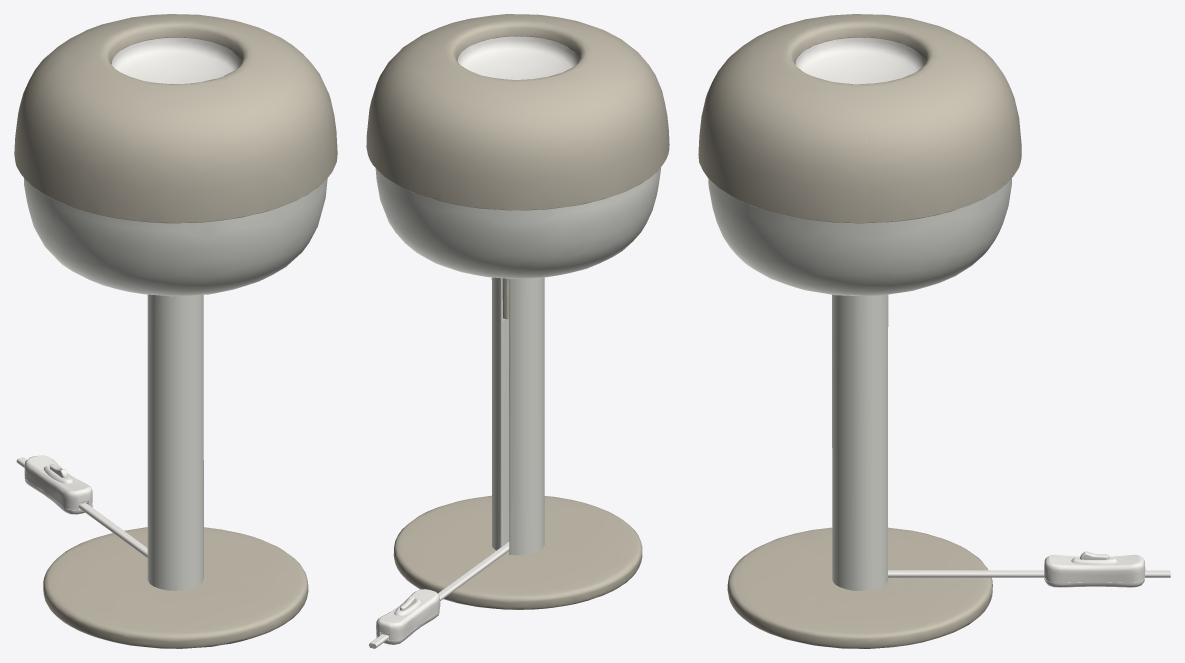
The model's file is blasverk_table_lamp_beige.glb.
3 views of the same model, side by side, from view 1: azimuth 30°, elevation 25°; view 2: azimuth 150°, elevation 25°; view 3: azimuth 270°, elevation 25° (orthographic). The views are drawn at different scales.
Visible parts, largest first — view 1: 70520926-BLÃƒÆ’Ã¢â‚¬Â¦SVERK001; view 2: 70520926-BLÃƒÆ’Ã¢â‚¬Â¦SVERK001; view 3: 70520926-BLÃƒÆ’Ã¢â‚¬Â¦SVERK001.
Boxes of the visible parts, left/top/right/bottom form: 70520926-BLÃƒÆ’Ã¢â‚¬Â¦SVERK001: left=14, top=14, right=337, bottom=648; 70520926-BLÃƒÆ’Ã¢â‚¬Â¦SVERK001: left=366, top=14, right=669, bottom=648; 70520926-BLÃƒÆ’Ã¢â‚¬Â¦SVERK001: left=698, top=14, right=1170, bottom=648.
Bounding box in the file's own units: 0.1948 × 0.3595 × 0.2843.
1 material, 1 textured.
